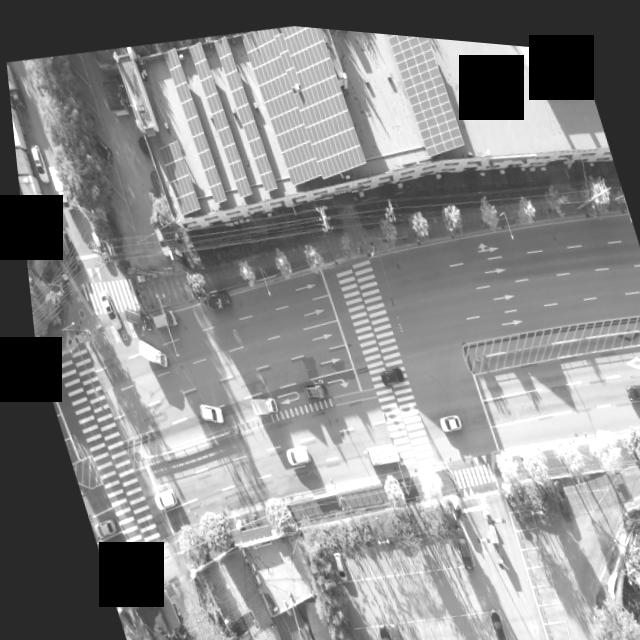car: (439, 515, 464, 562), (114, 301, 147, 336), (82, 124, 110, 165), (91, 285, 115, 331), (48, 226, 72, 269), (540, 469, 562, 511), (76, 514, 108, 541), (140, 306, 173, 331), (186, 396, 215, 424), (474, 600, 494, 640), (369, 357, 399, 382), (26, 144, 45, 183), (84, 227, 105, 262), (138, 483, 166, 509), (275, 439, 302, 464), (360, 615, 384, 640), (318, 543, 335, 577), (373, 615, 395, 640), (148, 221, 165, 253), (428, 403, 452, 424), (616, 370, 640, 391)
small_bus: (353, 432, 392, 463)
small_truck: (126, 331, 164, 374), (43, 163, 68, 210), (5, 60, 23, 113), (290, 370, 321, 399), (197, 283, 226, 308), (240, 388, 269, 413)
